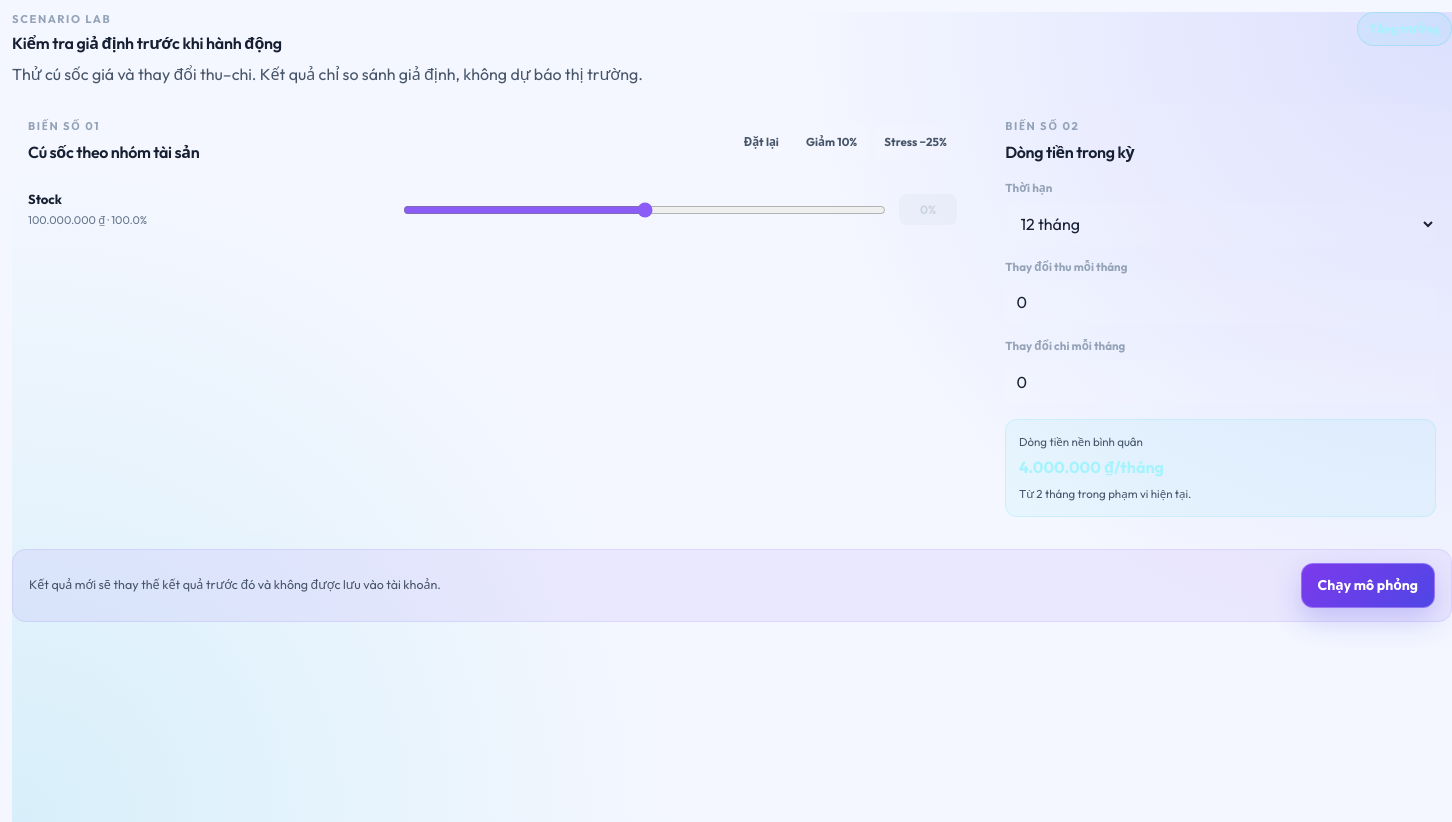
Test: ScenarioLab › applies a stress preset to every visible category
What coordinates should you click on to do the following:
click the button "Giảm 10%"
I would click on:
 (832, 142)
Its box is [796, 124, 868, 160].
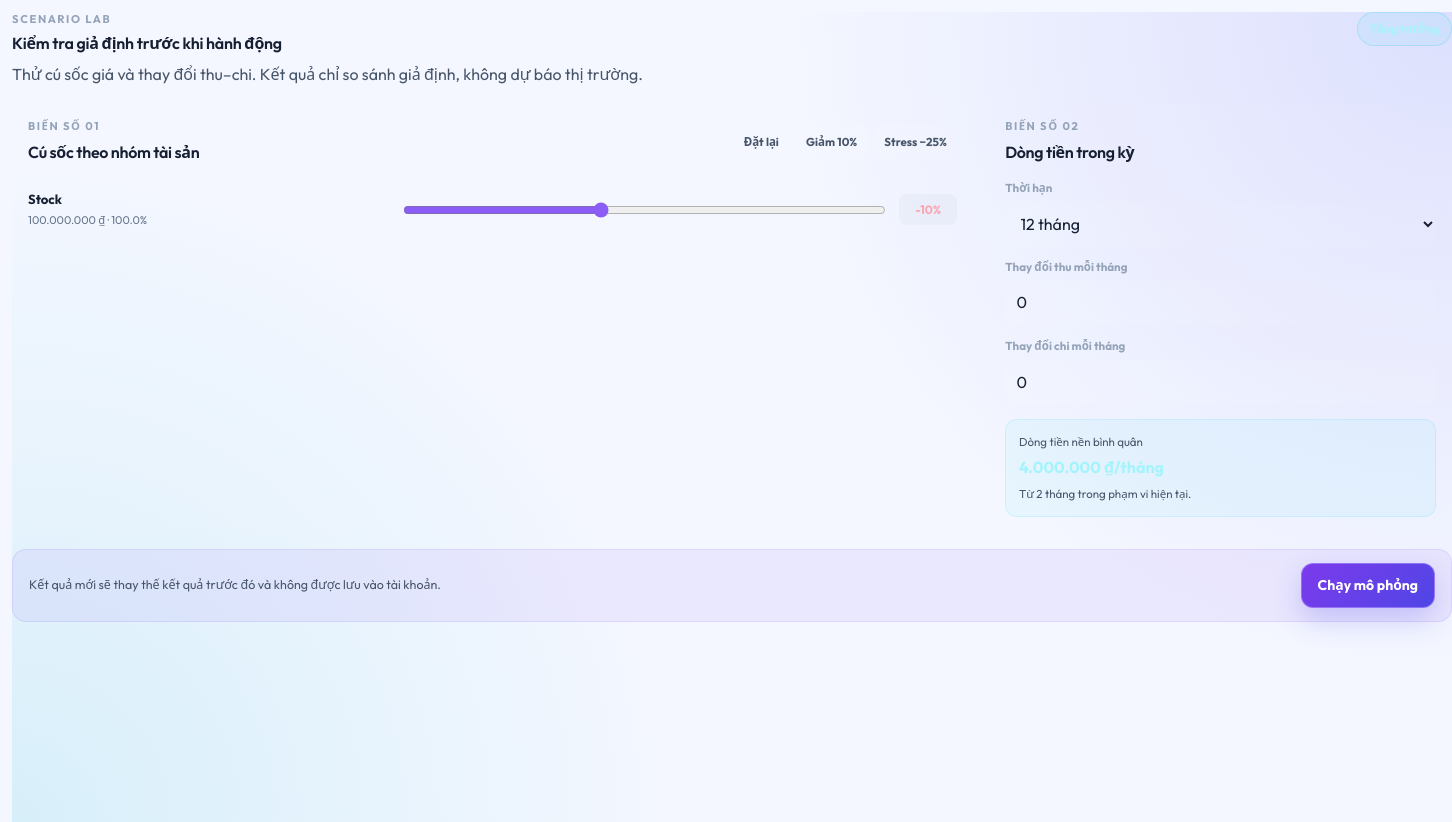
Check: the slider named "Thay đổi giá Stock" holds "-10", box [403, 188, 886, 232]
